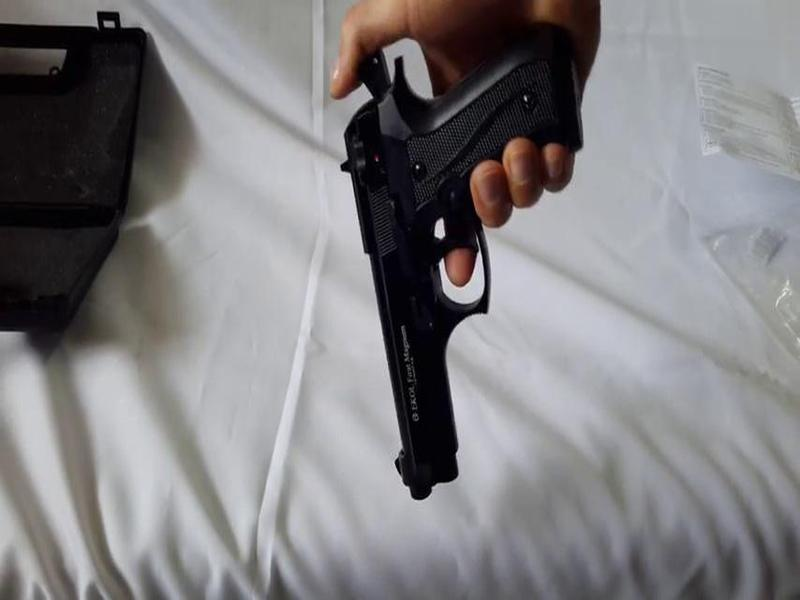Pistola: (313, 44, 613, 462)
